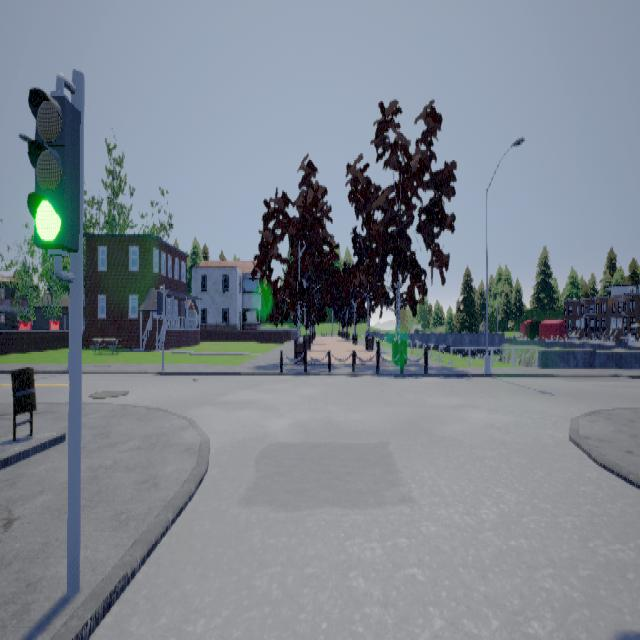green_light: (28, 71, 82, 281)
